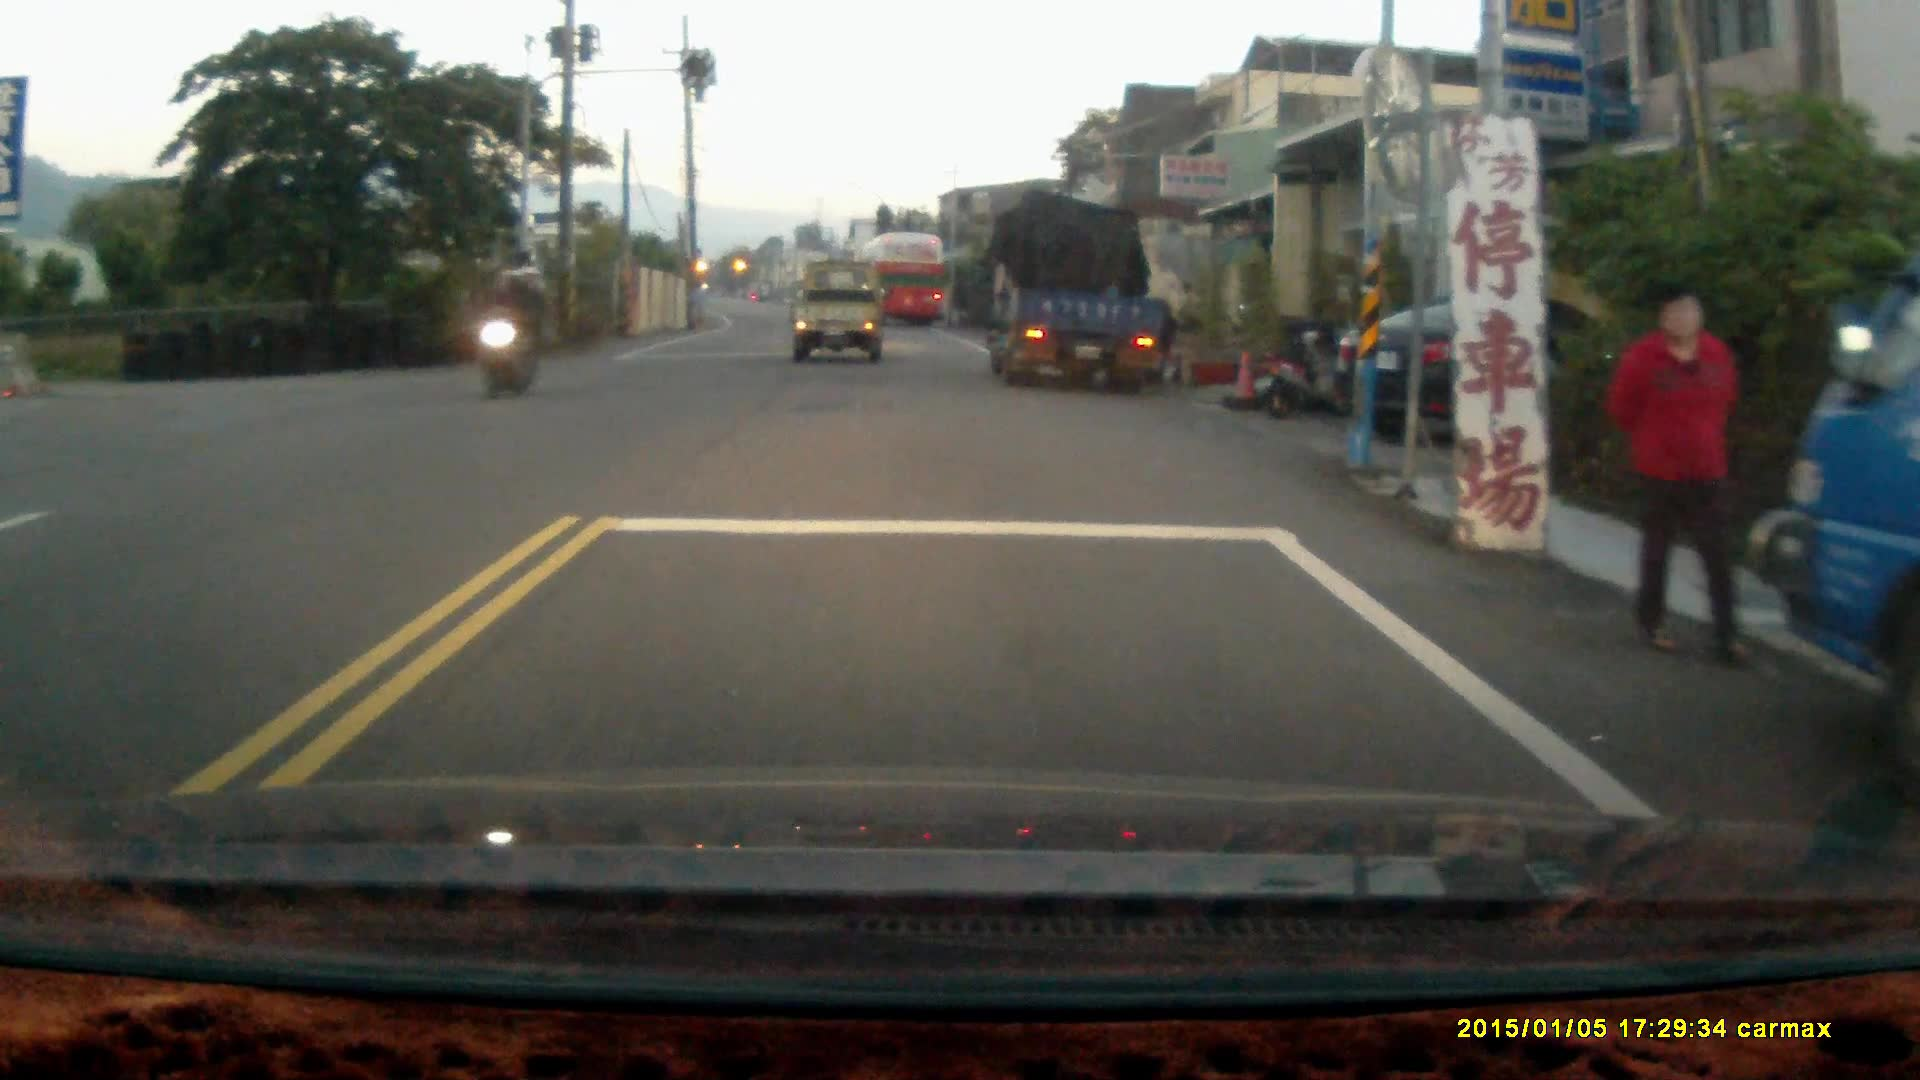pedestrian: (1608, 281, 1749, 673)
rider: (471, 266, 550, 404)
vehicle: (1741, 206, 1919, 809), (1333, 292, 1684, 454), (990, 194, 1179, 389), (792, 261, 887, 372), (856, 231, 951, 331)
